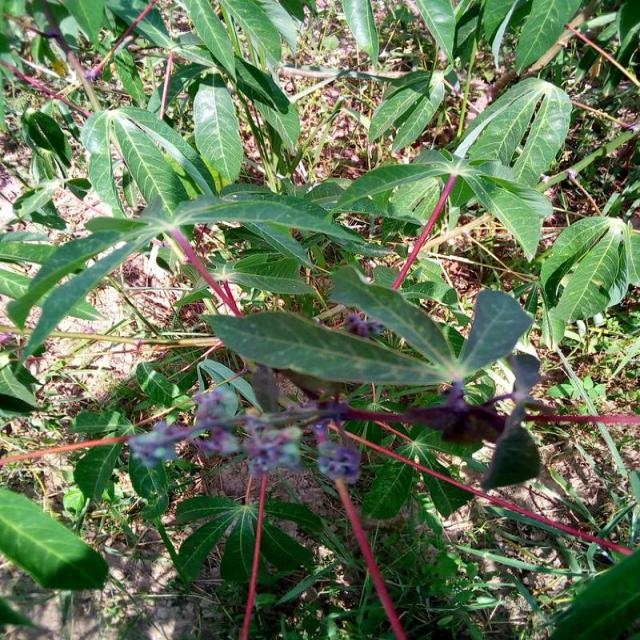cassava leaf: (200, 307, 454, 387), (0, 485, 109, 591)
